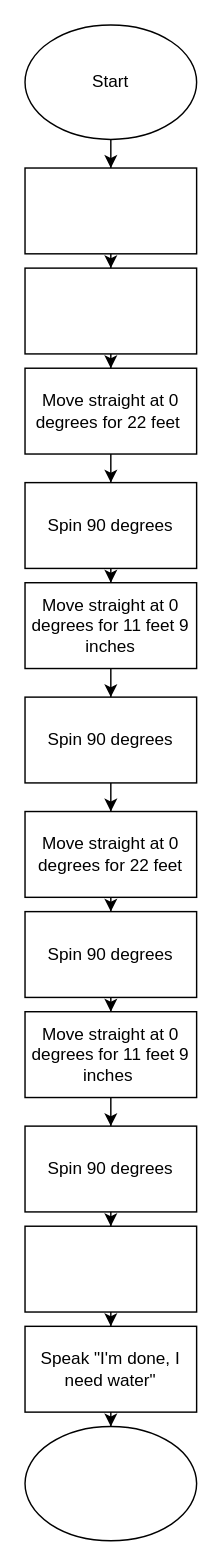
This 222x1566 diagram has some shape labels left out. The box of each missing label's shape, as (x1, y1, x2, y2) in pixels:
End: (24, 1425, 197, 1541)
LED Light Turn Green: (24, 167, 197, 254)
LED light turns Red: (24, 1225, 197, 1312)
Speak "Ready, Set, Go": (24, 267, 197, 354)
